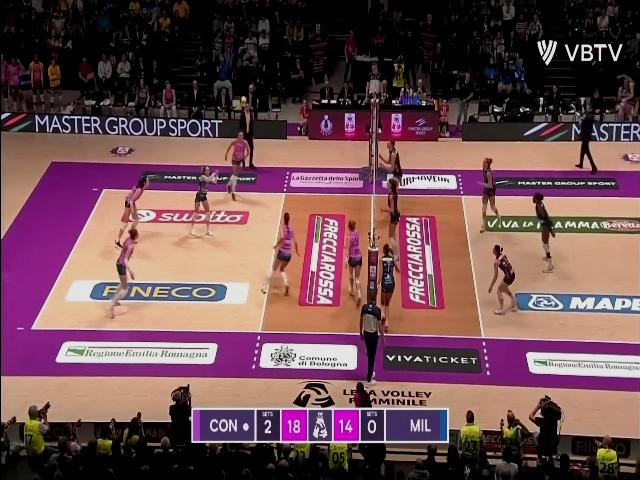volleyball court: (30, 185, 638, 347)
